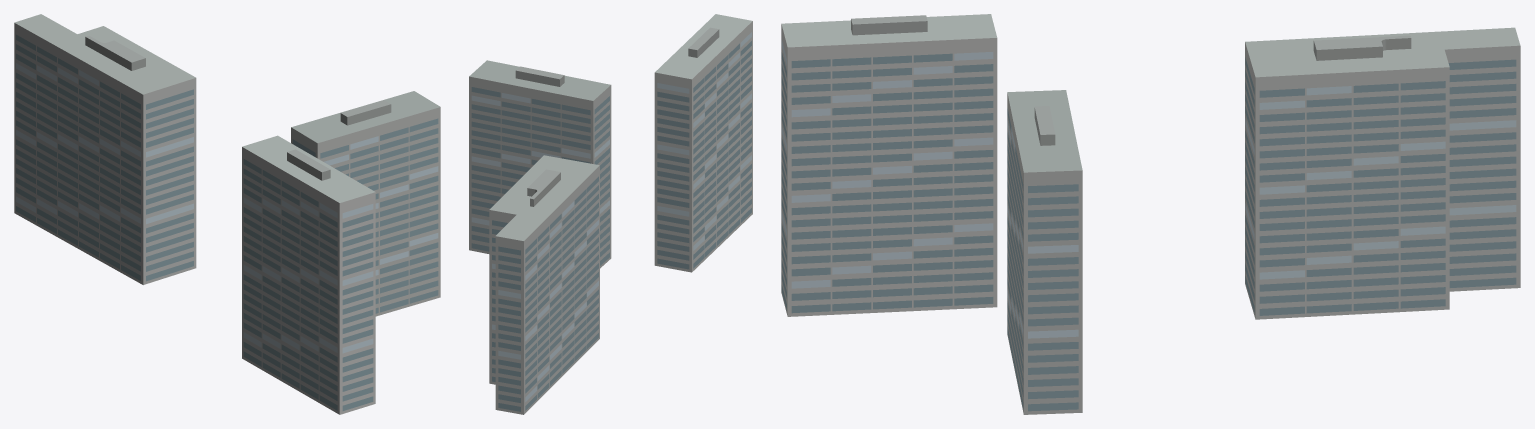
File: apt-a15105301.glb
The picture shows the model from 3 angles, left to right: view 1: azimuth 30°, elevation 25°; view 2: azimuth 150°, elevation 25°; view 3: azimuth 270°, elevation 25°; orthographic projection. The views are drawn at different scales.
Parts seen in each view (by area): view 1: apt-a15105301; view 2: apt-a15105301; view 3: apt-a15105301.
Part boxes in pixels (left/top/right/bottom): apt-a15105301: left=14, top=14, right=440, bottom=414; apt-a15105301: left=469, top=14, right=752, bottom=414; apt-a15105301: left=781, top=14, right=1520, bottom=414.
Bounding box in the file's own units: 68.79 × 62 × 148.
